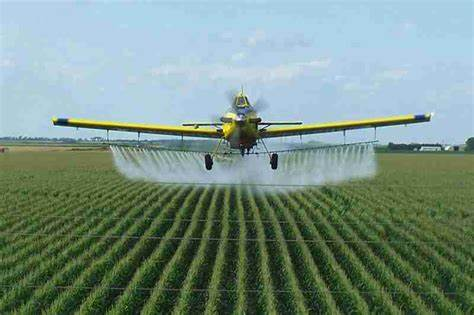Aeronef_de_service: (48, 81, 440, 177)
